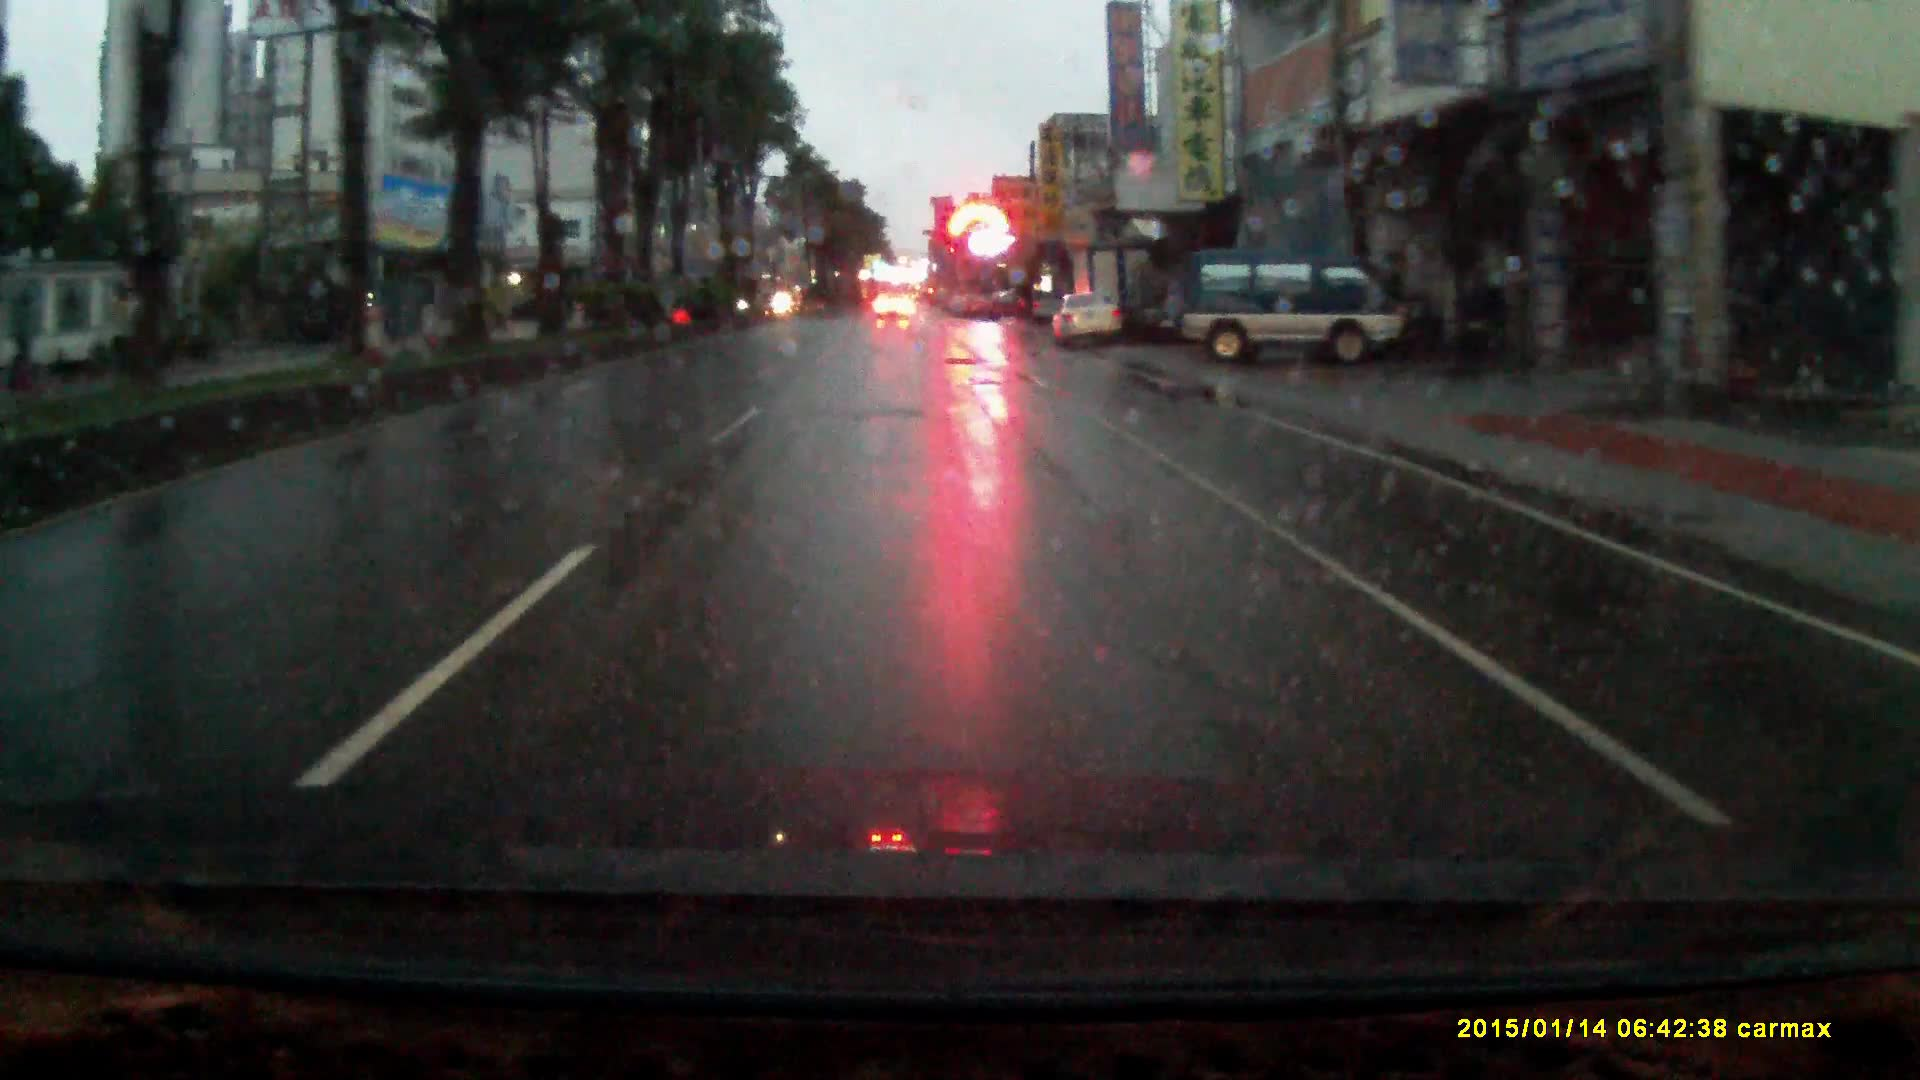vehicle: (1178, 247, 1428, 376), (1069, 247, 1156, 348), (1051, 291, 1125, 351), (876, 295, 913, 326)
